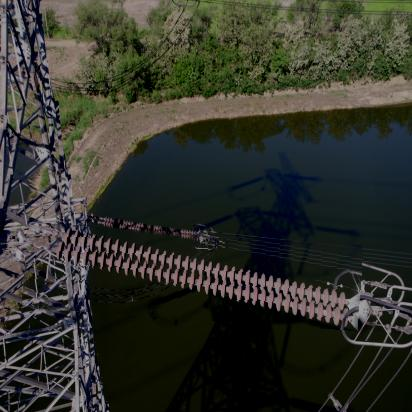insulator: (24, 229, 364, 327)
